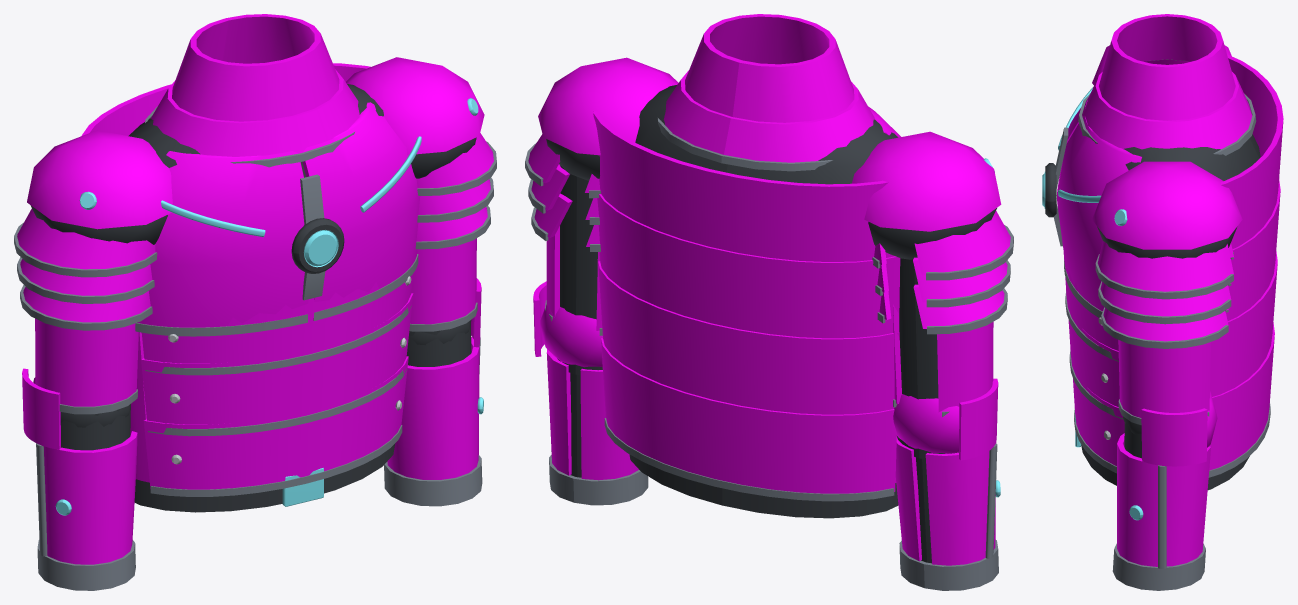
File: porte_armure4_plastron.glb
The picture shows the model from 3 angles, left to right: view 1: azimuth 30°, elevation 25°; view 2: azimuth 150°, elevation 25°; view 3: azimuth 270°, elevation 25°; orthographic projection. The views are drawn at different scales.
Parts seen in each view (by area): view 1: poitrine__plastron_teinte.010, ventre__plastron_teinte.010, avantbras_d__plastron_teinte.010, poitrine__plastron_acier_lisere.002, avantbras_g__plastron_teinte.010, bras_d__plastron_teinte.010, ventre__plastron_acier_lisere.002, poitrine__plastron_teinte_sombre.008, bras_g__plastron_teinte.010, avantbras_d__plastron_acier_lisere.002, ventre__plastron_teinte_sombre.008, poitrine__plastron_lueur.002 (+5 smaller); view 2: poitrine__plastron_teinte.010, ventre__plastron_teinte.010, avantbras_d__plastron_teinte.010, avantbras_g__plastron_teinte.010, poitrine__plastron_teinte_sombre.008, poitrine__plastron_acier_lisere.002, bras_d__plastron_teinte.010, bras_g__plastron_teinte_sombre.008, ventre__plastron_teinte_sombre.008, bras_d__plastron_teinte_sombre.008, avantbras_d__plastron_acier_lisere.002, avantbras_g__plastron_acier_lisere.002 (+4 smaller); view 3: poitrine__plastron_teinte.010, ventre__plastron_teinte.010, avantbras_g__plastron_teinte.010, bras_g__plastron_teinte.010, poitrine__plastron_acier_lisere.002, poitrine__plastron_teinte_sombre.008, avantbras_g__plastron_acier_lisere.002, ventre__plastron_acier_lisere.002, poitrine__plastron_lueur.002, ventre__plastron_teinte_sombre.008, avantbras_g__plastron_teinte_sombre.008.
Boxes of the visible parts, left/top/right/bottom form: poitrine__plastron_teinte.010: left=17, top=14, right=493, bottom=327; ventre__plastron_teinte.010: left=130, top=274, right=413, bottom=489; avantbras_d__plastron_teinte.010: left=22, top=368, right=137, bottom=564; poitrine__plastron_acier_lisere.002: left=14, top=106, right=496, bottom=336; avantbras_g__plastron_teinte.010: left=387, top=278, right=481, bottom=479; bras_d__plastron_teinte.010: left=35, top=318, right=138, bottom=406; ventre__plastron_acier_lisere.002: left=145, top=305, right=411, bottom=496; poitrine__plastron_teinte_sombre.008: left=30, top=84, right=476, bottom=273; bras_g__plastron_teinte.010: left=410, top=238, right=476, bottom=324; avantbras_d__plastron_acier_lisere.002: left=36, top=443, right=135, bottom=590; ventre__plastron_teinte_sombre.008: left=134, top=443, right=395, bottom=512; poitrine__plastron_lueur.002: left=79, top=98, right=478, bottom=267; poitrine__plastron_teinte.010: left=528, top=14, right=1010, bottom=338; ventre__plastron_teinte.010: left=597, top=259, right=899, bottom=493; avantbras_d__plastron_teinte.010: left=893, top=378, right=998, bottom=565; avantbras_g__plastron_teinte.010: left=533, top=281, right=638, bottom=480; poitrine__plastron_teinte_sombre.008: left=546, top=85, right=996, bottom=259; poitrine__plastron_acier_lisere.002: left=525, top=118, right=1013, bottom=334; bras_d__plastron_teinte.010: left=893, top=304, right=993, bottom=412; bras_g__plastron_teinte_sombre.008: left=557, top=164, right=602, bottom=375; ventre__plastron_teinte_sombre.008: left=629, top=454, right=898, bottom=518; bras_d__plastron_teinte_sombre.008: left=897, top=258, right=958, bottom=459; avantbras_d__plastron_acier_lisere.002: left=899, top=443, right=998, bottom=590; avantbras_g__plastron_acier_lisere.002: left=549, top=451, right=648, bottom=505; poitrine__plastron_teinte.010: left=1056, top=14, right=1283, bottom=341; ventre__plastron_teinte.010: left=1063, top=252, right=1277, bottom=470; avantbras_g__plastron_teinte.010: left=1117, top=391, right=1217, bottom=566; bras_g__plastron_teinte.010: left=1118, top=340, right=1210, bottom=417; poitrine__plastron_acier_lisere.002: left=1053, top=59, right=1256, bottom=348; poitrine__plastron_teinte_sombre.008: left=1045, top=134, right=1260, bottom=258; avantbras_g__plastron_acier_lisere.002: left=1112, top=465, right=1205, bottom=590; ventre__plastron_acier_lisere.002: left=1065, top=291, right=1270, bottom=477; poitrine__plastron_lueur.002: left=1042, top=87, right=1127, bottom=226; ventre__plastron_teinte_sombre.008: left=1081, top=445, right=1249, bottom=490; avantbras_g__plastron_teinte_sombre.008: left=1123, top=416, right=1141, bottom=458.
Bounding box in the file's own units: 0.6939 × 0.695 × 0.336.
